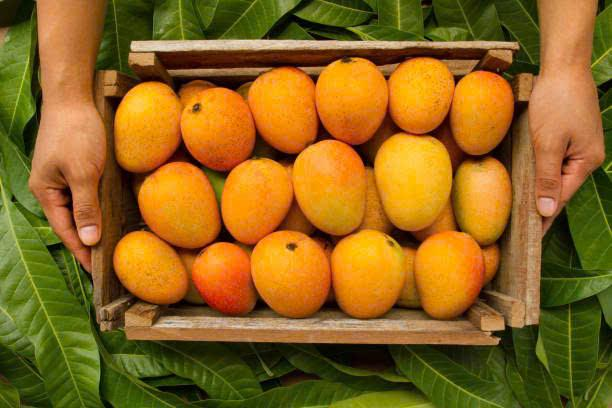mango: (323, 54, 401, 155), (451, 164, 540, 248), (400, 227, 486, 313), (383, 135, 450, 236), (99, 225, 187, 301), (181, 237, 256, 322), (328, 235, 404, 318), (135, 167, 220, 241), (187, 81, 252, 176), (299, 141, 362, 237), (258, 225, 325, 310), (242, 69, 315, 142), (222, 160, 288, 239), (390, 52, 460, 125), (124, 89, 183, 173), (464, 75, 512, 167), (332, 145, 334, 146)
